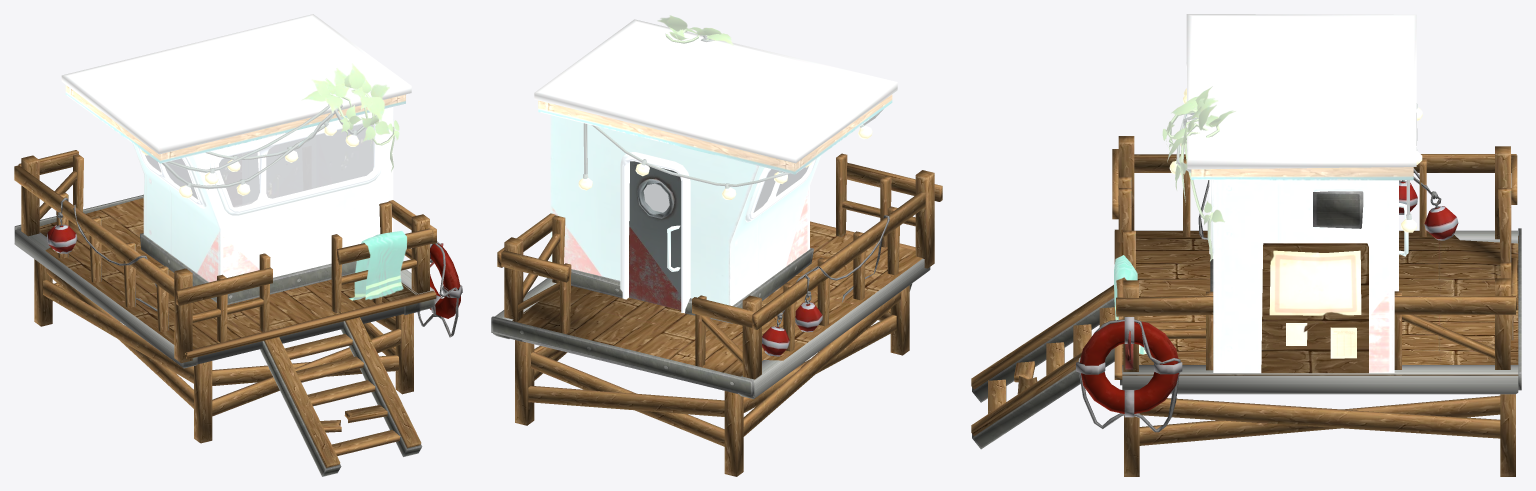
File: lifeguard-tower.zfix-v14.lod0.glb
3 renders of one model, left to right at view 1: azimuth 30°, elevation 25°; view 2: azimuth 150°, elevation 25°; view 3: azimuth 270°, elevation 25°, orthographic. The views are drawn at different scales.
Parts seen in each view (by area): view 1: Object_2, Object_3; view 2: Object_3, Object_2; view 3: Object_3, Object_2.
Part boxes in pixels (x1,y1,x2,y2): Object_2: [61, 14, 411, 300]; Object_3: [14, 150, 462, 476]; Object_3: [491, 153, 942, 476]; Object_2: [534, 15, 897, 313]; Object_3: [971, 136, 1521, 476]; Object_2: [1114, 14, 1422, 372].
Size of the model in its own units: 4.35 by 4.6 by 6.29.
2 materials, 2 textured.
